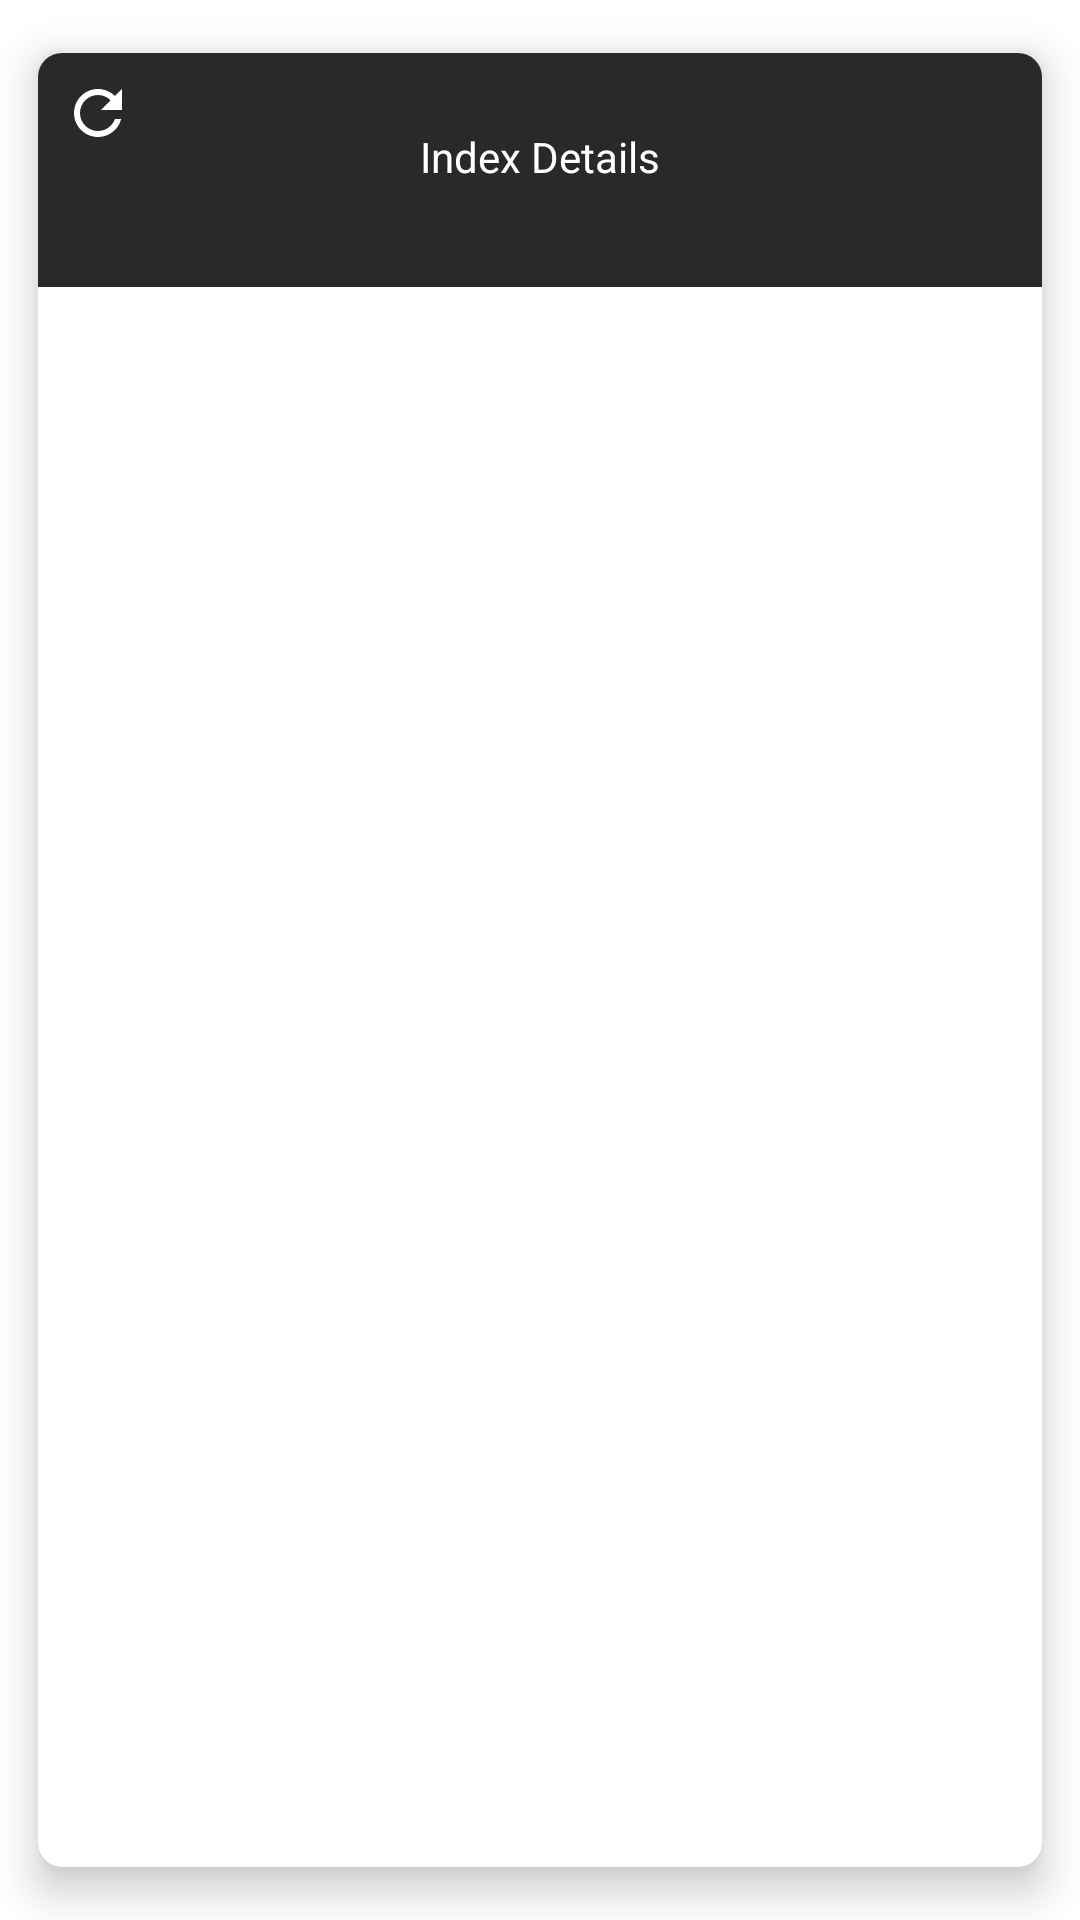

Named icons in this screenshot (1080px×1920px) and their centers, (x,y):
refresh: (98,113)
